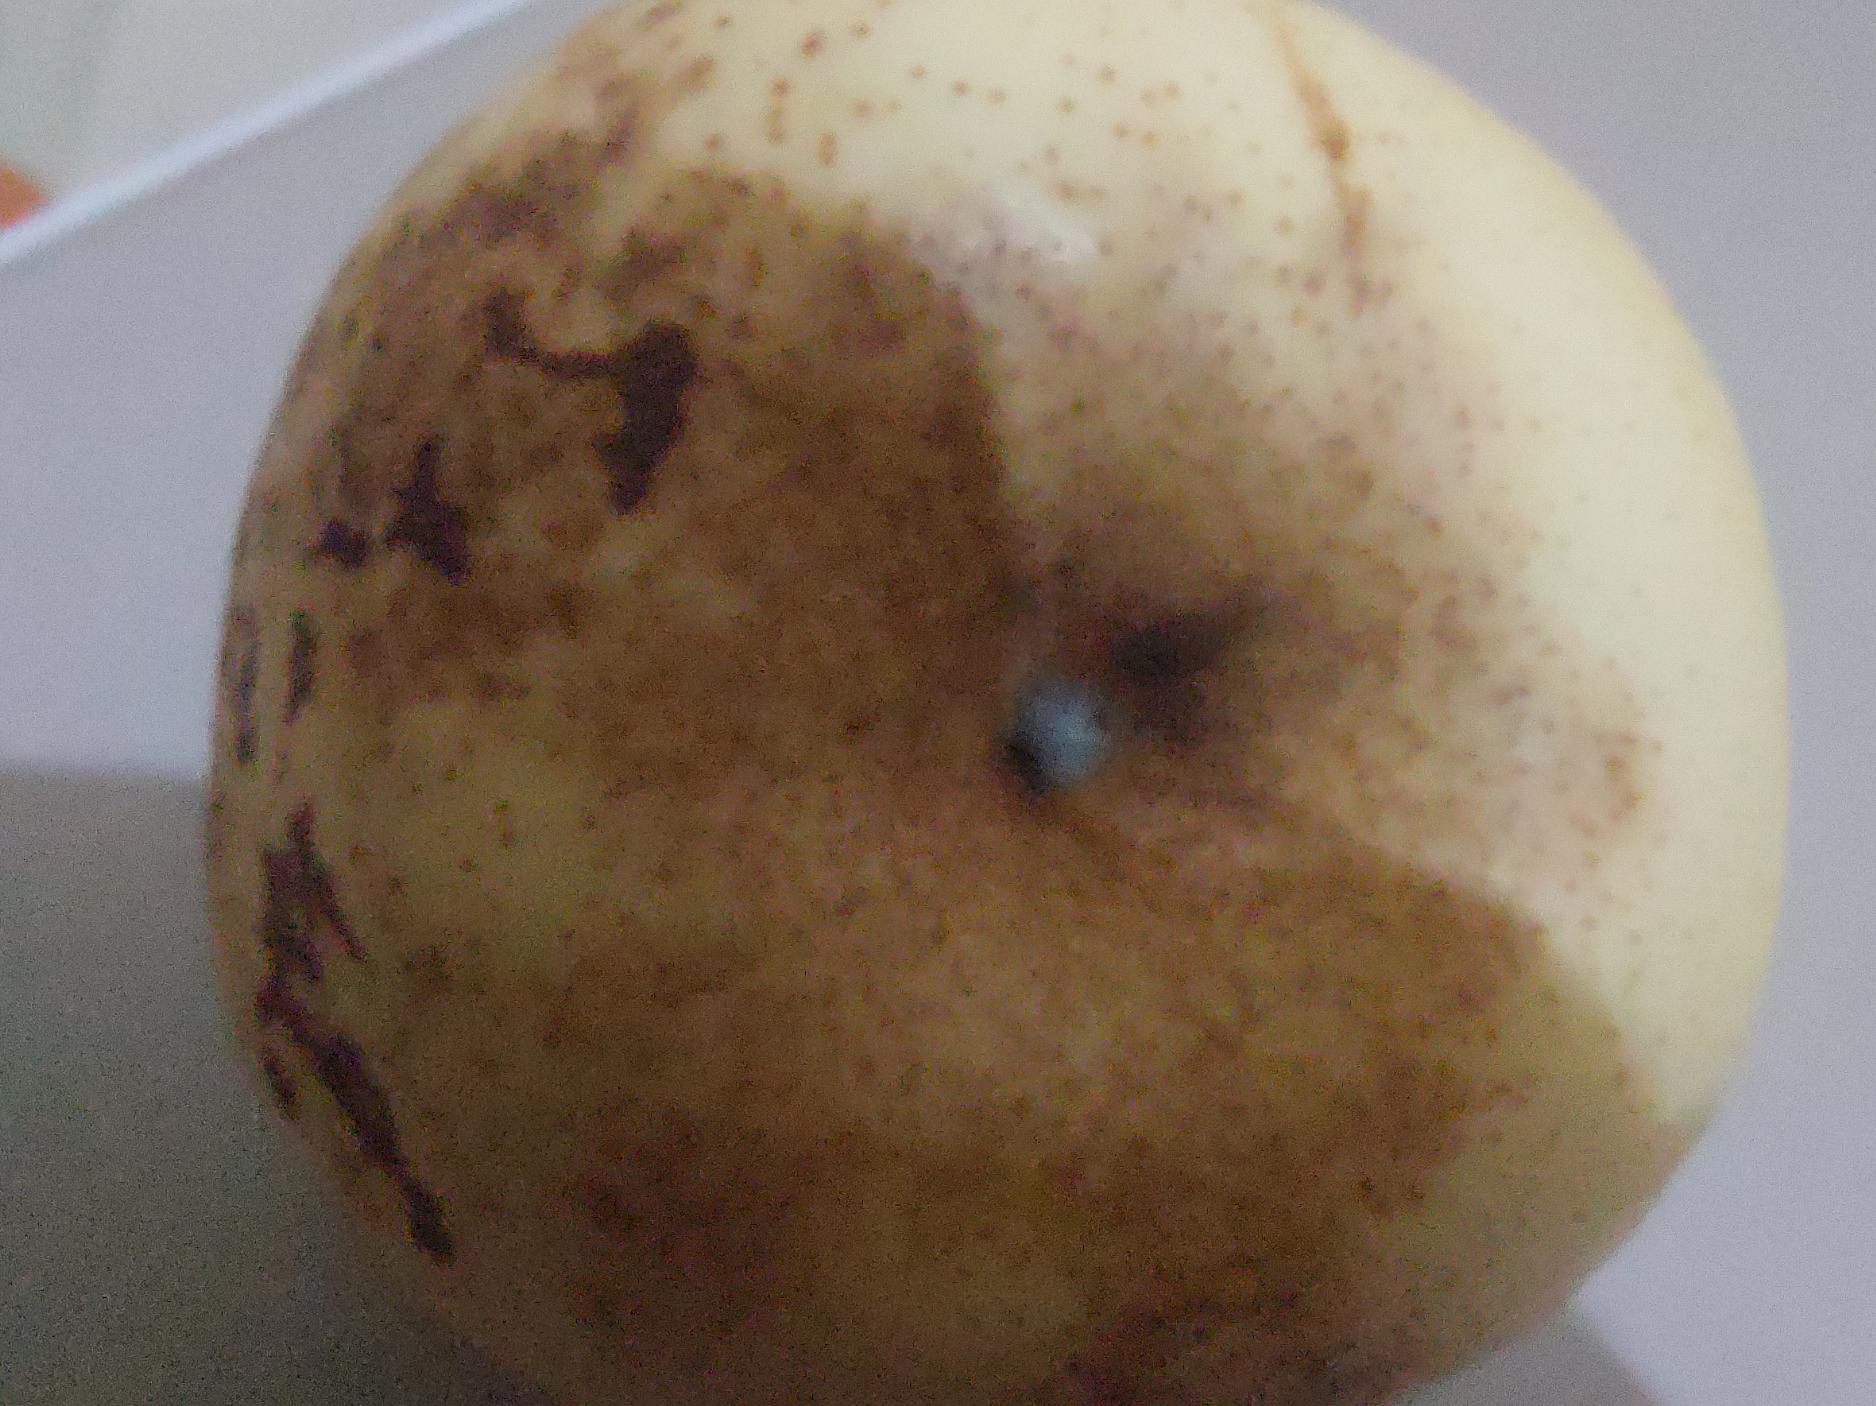Bad Pear: (171, 0, 1815, 1406)
